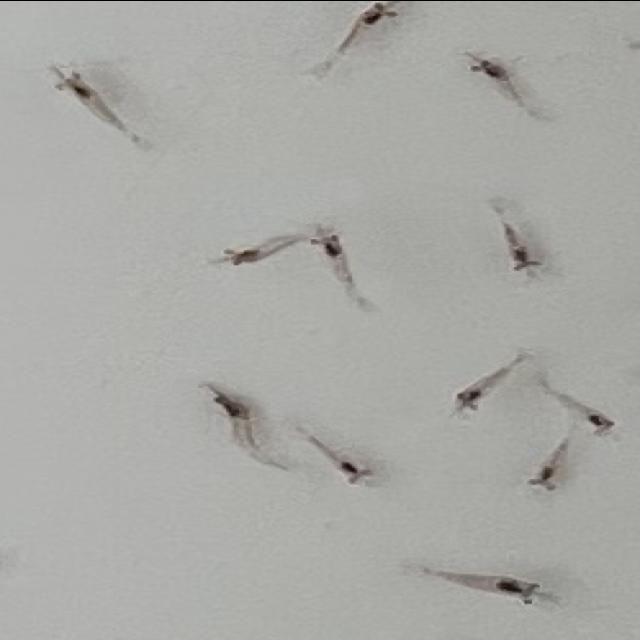shrimp-seed: (491, 573, 543, 607), (51, 64, 97, 100), (356, 1, 401, 31), (208, 392, 254, 421), (450, 384, 491, 415), (332, 458, 374, 488), (472, 56, 509, 86), (306, 233, 348, 259), (219, 244, 264, 268), (524, 464, 560, 492), (582, 411, 619, 436), (507, 248, 541, 274)
